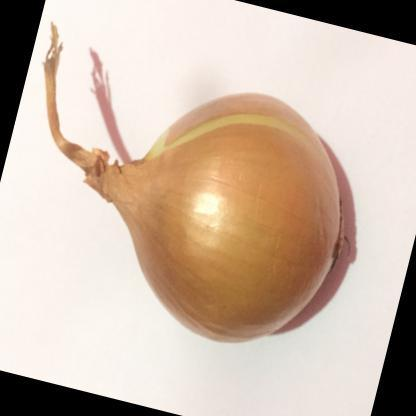onion: (78, 45, 404, 374)
